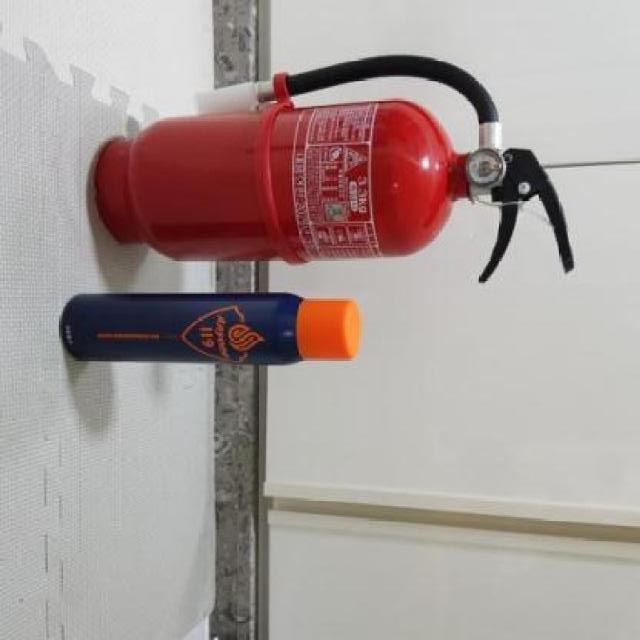fire extinguisher: (95, 55, 574, 282)
